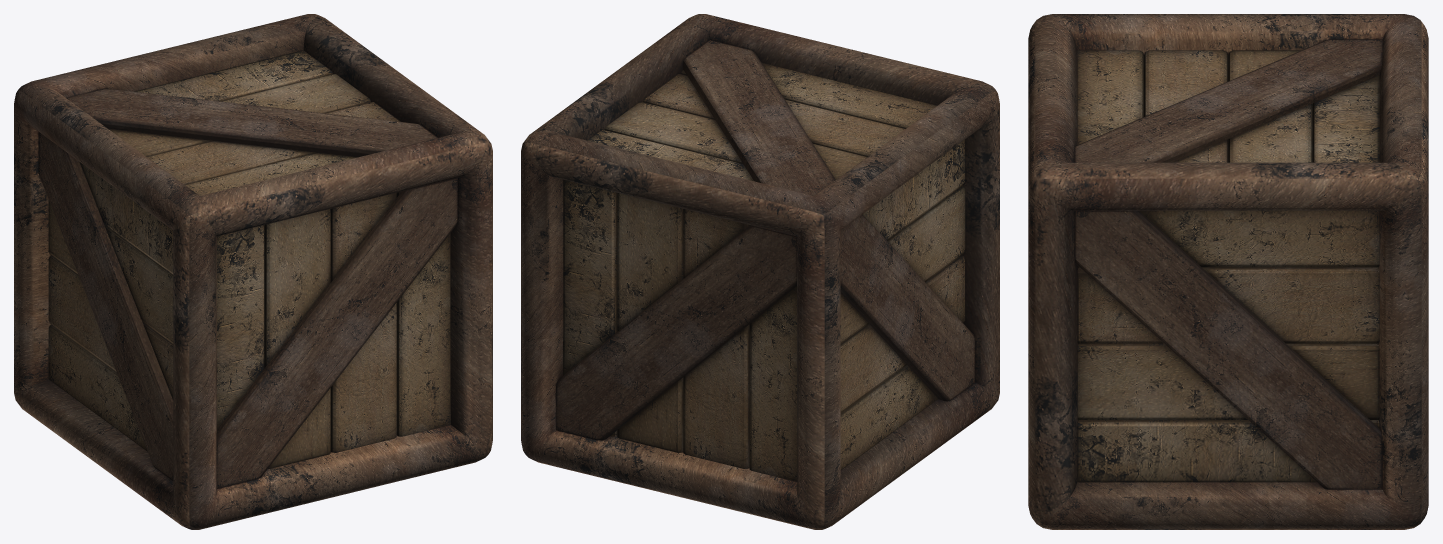
File: Obstacle-23.fbx
3 renders of one model, left to right at view 1: azimuth 30°, elevation 25°; view 2: azimuth 150°, elevation 25°; view 3: azimuth 270°, elevation 25°, orthographic. The views are drawn at different scales.
Visible parts, largest first — view 1: Obstacle-23; view 2: Obstacle-23; view 3: Obstacle-23.
Boxes of the visible parts, x1,y1,x2,y2 form: Obstacle-23: [14, 14, 492, 529]; Obstacle-23: [521, 14, 999, 529]; Obstacle-23: [1028, 14, 1428, 529].
Size of the model in its own units: 1 by 1 by 1.
